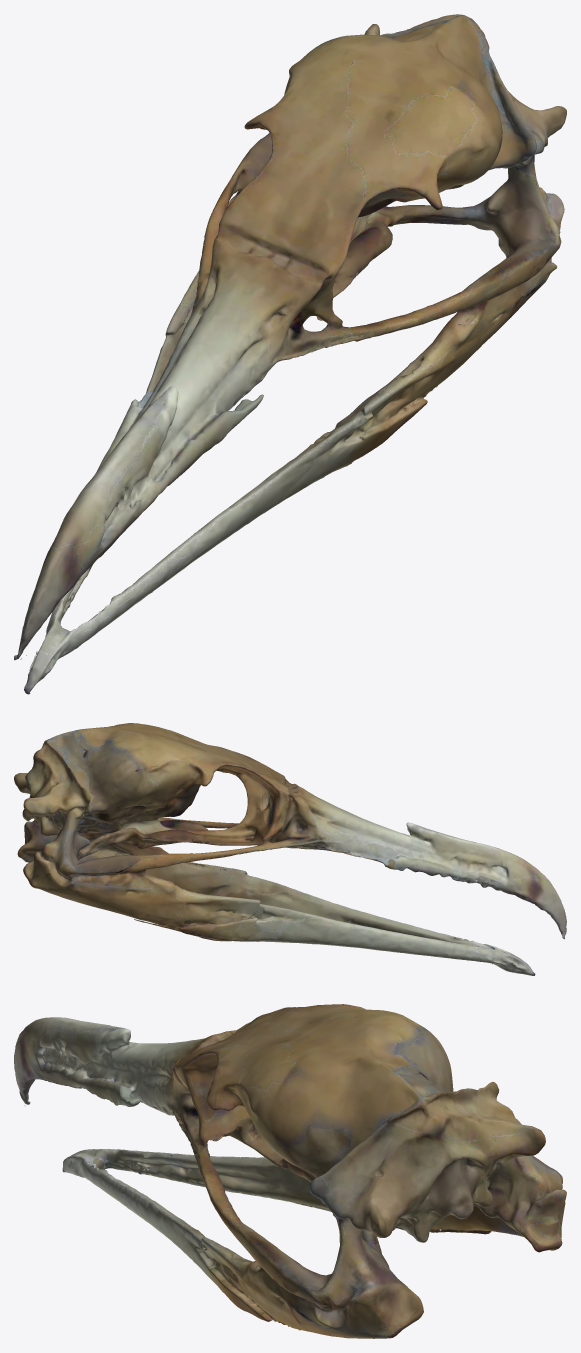
The model's file is cormoran.glb.
The picture shows the model from 3 angles, top to bottom: view 1: azimuth 30°, elevation 25°; view 2: azimuth 150°, elevation 25°; view 3: azimuth 270°, elevation 25°; orthographic projection. The views are drawn at different scales.
Parts seen in each view (by area): view 1: Object_2; view 2: Object_2; view 3: Object_2.
Part boxes in pixels (x1=…): Object_2: x1=14, y1=14, x2=566, y2=694; Object_2: x1=14, y1=723, x2=566, y2=975; Object_2: x1=14, y1=1004, x2=566, y2=1338.
Bounding box in the file's own units: 122 × 63.63 × 84.24.
Materials: 1 (1 with a texture image).
